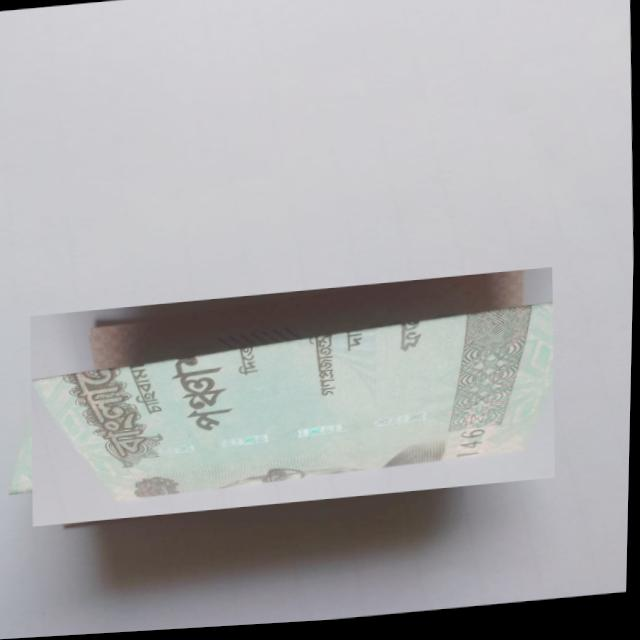Taka: (28, 273, 561, 527)
